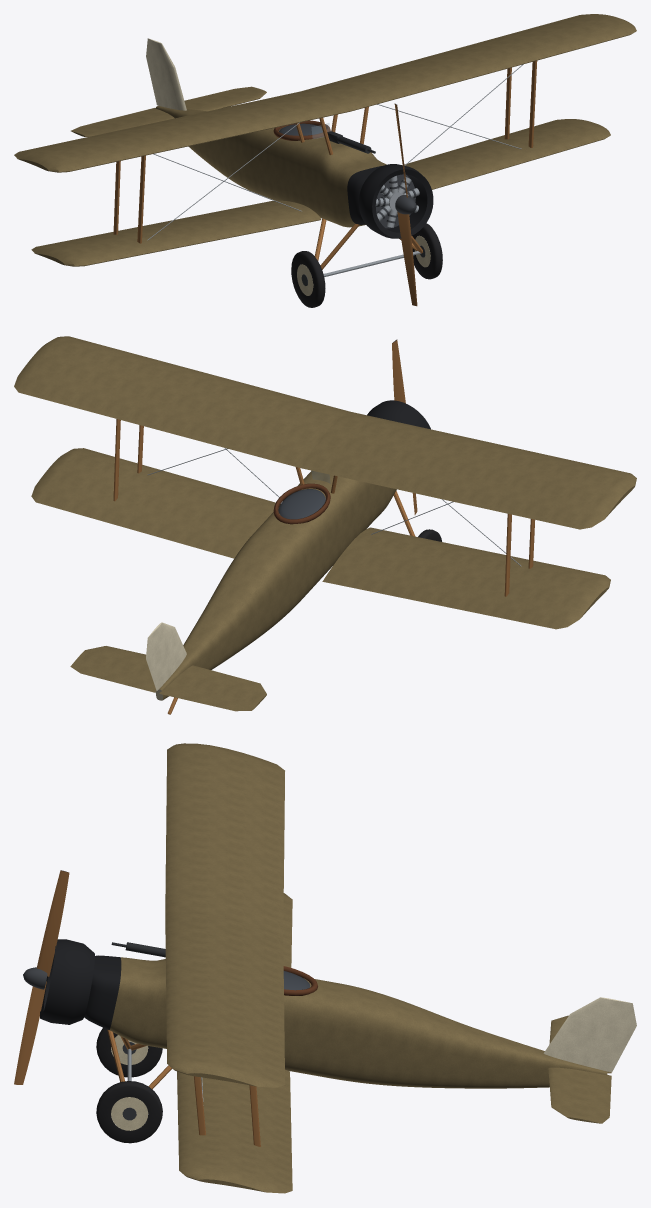
File: biplane-fighter.glb
3 views of the same model, one above another, from view 1: azimuth 30°, elevation 25°; view 2: azimuth 150°, elevation 25°; view 3: azimuth 270°, elevation 25° (orthographic). The views are drawn at different scales.
Parts seen in each view (by area): view 1: Biplane_Fighter, Propeller, Wheel_R, Wheel_L; view 2: Biplane_Fighter, Propeller; view 3: Biplane_Fighter, Wheel_L, Propeller, Wheel_R.
Boxes of the visible parts, bbox=[...] form: Biplane_Fighter: bbox=[14, 14, 636, 276]; Propeller: bbox=[375, 103, 419, 306]; Wheel_R: bbox=[291, 251, 325, 307]; Wheel_L: bbox=[412, 223, 442, 279]; Biplane_Fighter: bbox=[14, 336, 636, 714]; Propeller: bbox=[392, 339, 417, 514]; Biplane_Fighter: bbox=[40, 743, 636, 1193]; Wheel_L: bbox=[96, 1081, 162, 1143]; Propeller: bbox=[14, 870, 69, 1084]; Wheel_R: bbox=[96, 1028, 162, 1077].
Size of the model in its own units: 8.4 by 2.85 by 6.73.
Materials: 12 (3 with a texture image).
